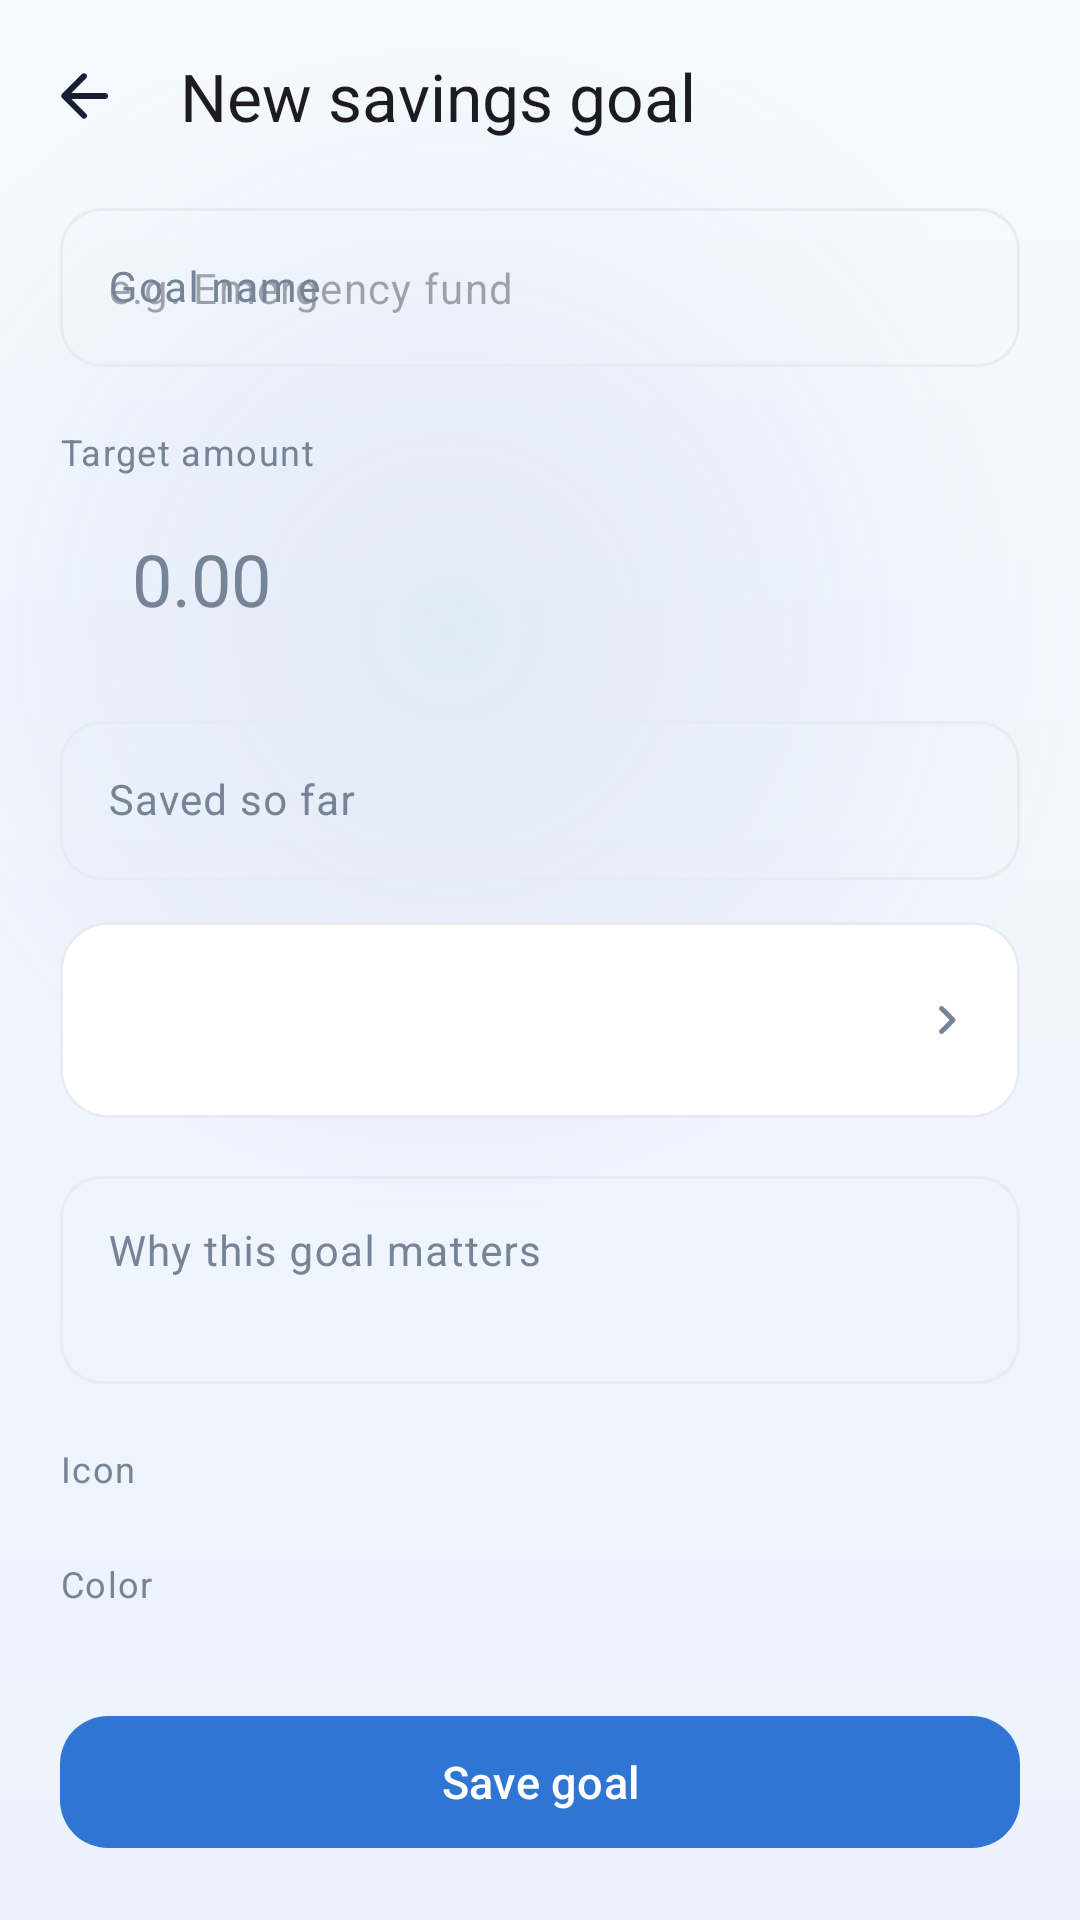

Icons on this 1080 x 1920 Android screen, each with its box as BBox(x1, y1, x2, y2):
chevron right: BBox(939, 1006, 956, 1034)
